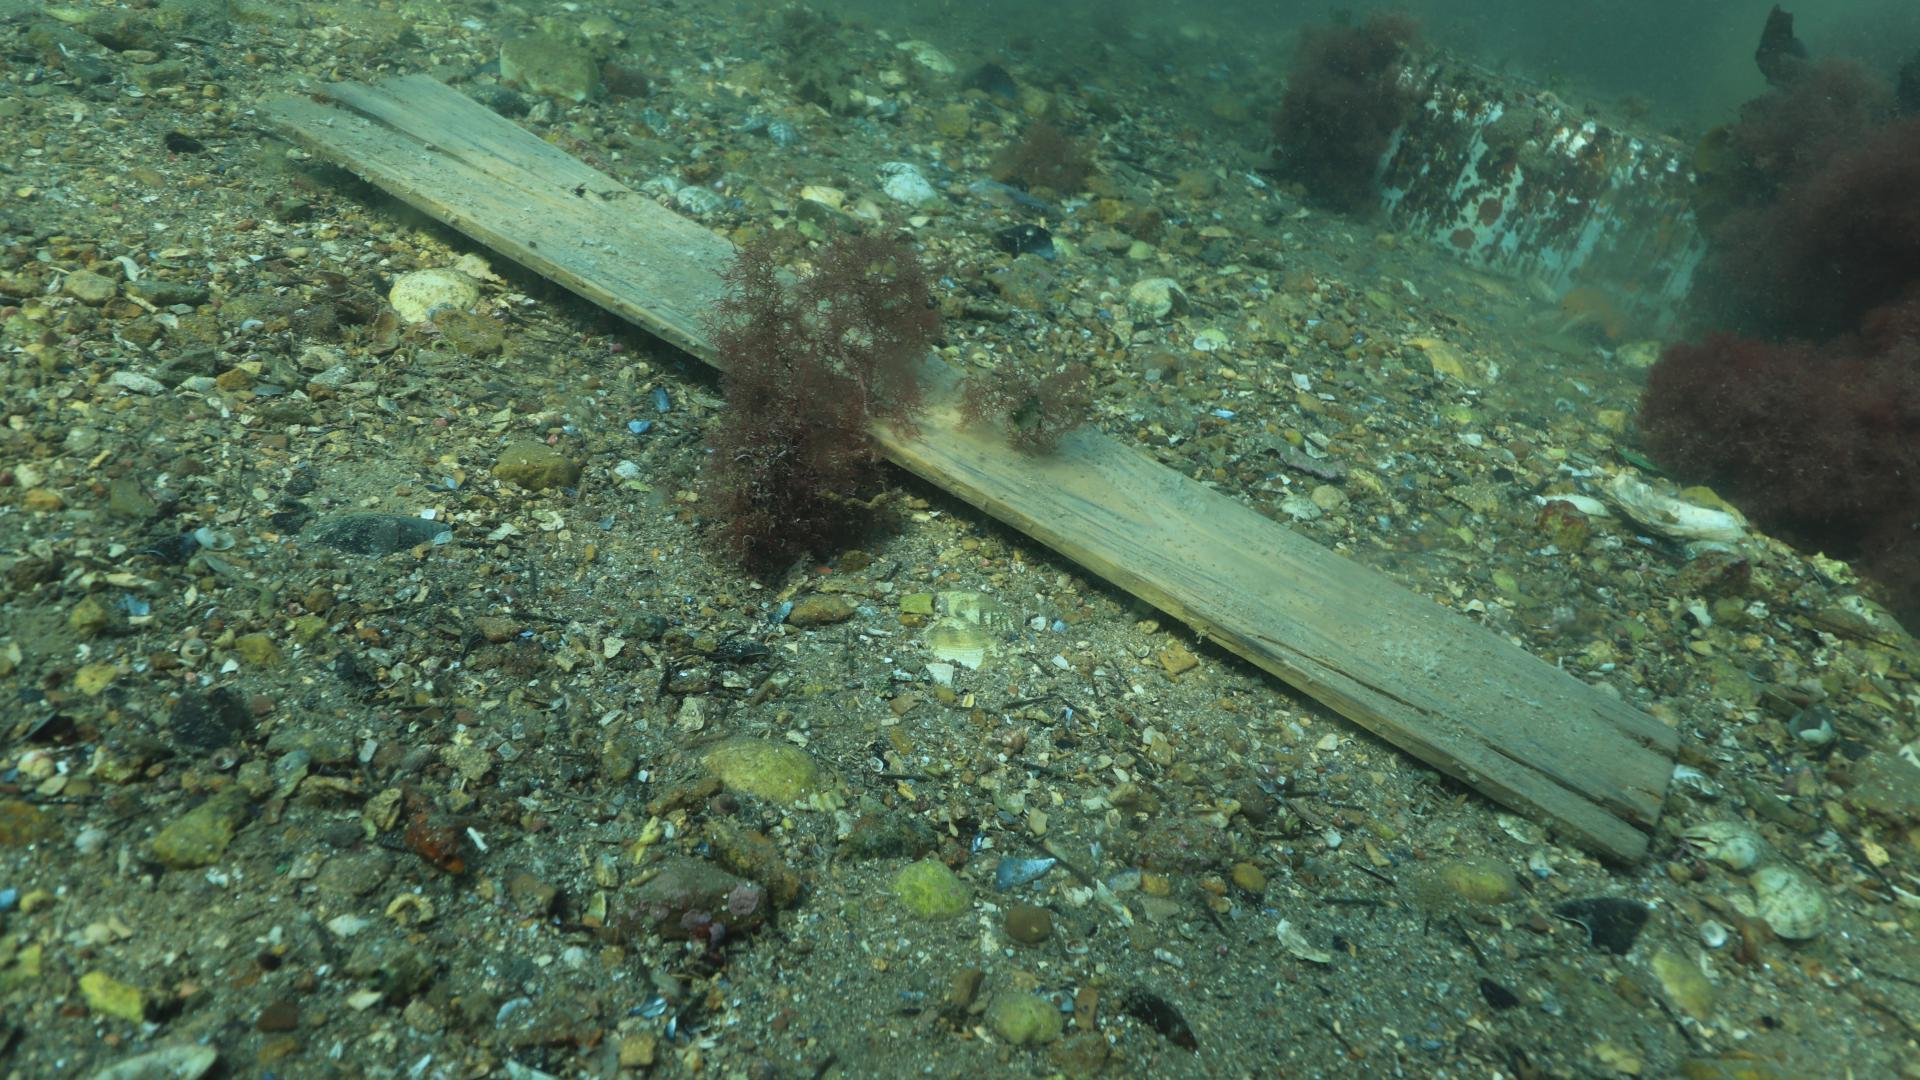wood: (251, 70, 1687, 872)
